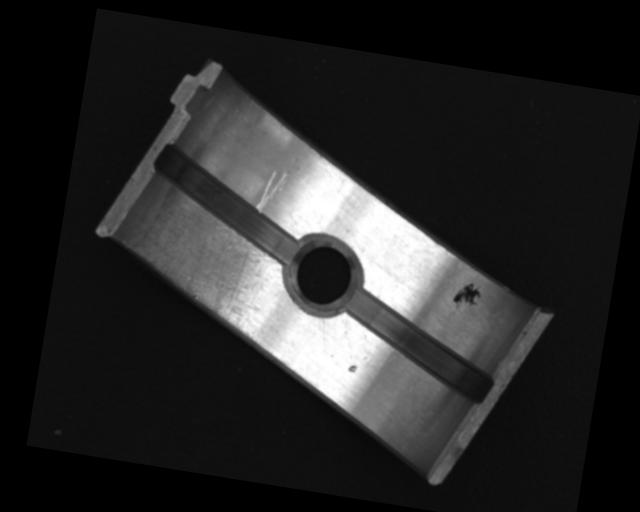blot: (449, 278, 483, 312)
bruise: (347, 363, 358, 373)
gap: (137, 138, 312, 266), (334, 287, 508, 406)
hole: (282, 237, 360, 317)
nick: (254, 164, 290, 216)
scratch: (110, 176, 289, 337)
